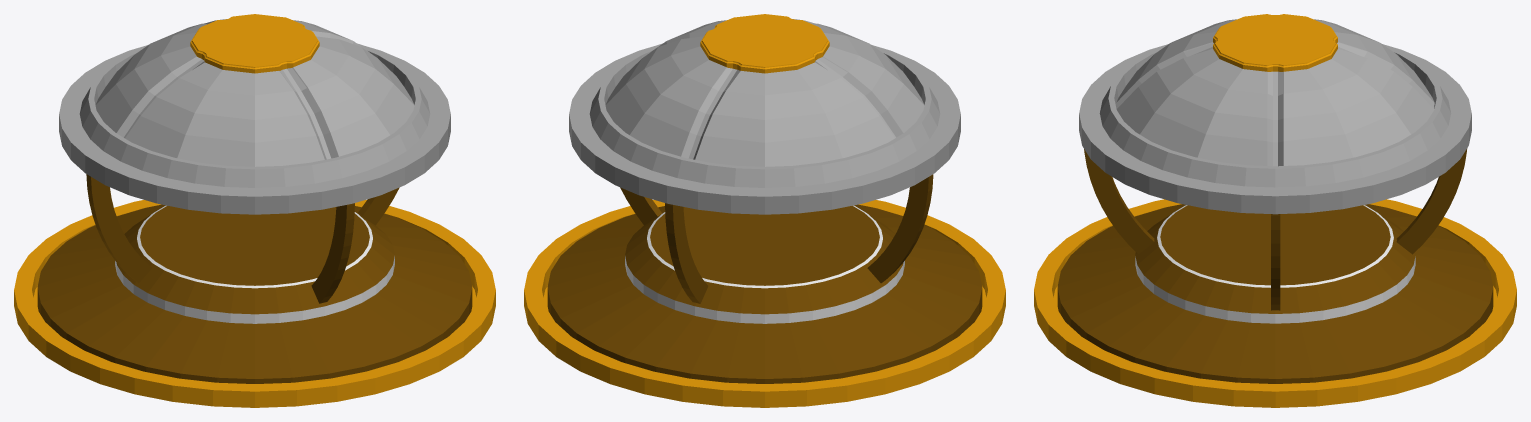
File: ornateTable_3.fbx
3 views of the same model, side by side, from view 1: azimuth 30°, elevation 25°; view 2: azimuth 150°, elevation 25°; view 3: azimuth 270°, elevation 25° (orthographic).
Visible parts, largest first — view 1: polySurface18, polySurface10, pCylinder5, polySurface19, polySurface16, pCube1, pCube4, pCube3; view 2: polySurface18, polySurface10, pCylinder5, polySurface19, polySurface16, pCube1, pCube2, pCube3; view 3: polySurface18, polySurface10, pCylinder5, polySurface19, polySurface16, pCube2, pCube4, pCube3.
Boxes of the visible parts, x1=… form: polySurface18: x1=37, y1=204, x2=472, y2=383; polySurface10: x1=95, y1=19, x2=414, y2=166; pCylinder5: x1=59, y1=43, x2=450, y2=214; polySurface19: x1=14, y1=200, x2=495, y2=407; polySurface16: x1=190, y1=14, x2=319, y2=73; pCube1: x1=86, y1=174, x2=151, y2=283; pCube4: x1=311, y1=203, x2=354, y2=303; pCube3: x1=357, y1=187, x2=399, y2=225; polySurface18: x1=547, y1=204, x2=982, y2=383; polySurface10: x1=605, y1=19, x2=924, y2=166; pCylinder5: x1=569, y1=43, x2=960, y2=214; polySurface19: x1=524, y1=200, x2=1005, y2=407; polySurface16: x1=700, y1=14, x2=829, y2=73; pCube1: x1=867, y1=174, x2=933, y2=283; pCube2: x1=665, y1=203, x2=708, y2=303; pCube3: x1=620, y1=187, x2=662, y2=225; polySurface18: x1=1057, y1=204, x2=1493, y2=383; polySurface10: x1=1116, y1=19, x2=1434, y2=166; pCylinder5: x1=1079, y1=44, x2=1471, y2=214; polySurface19: x1=1034, y1=199, x2=1516, y2=407; polySurface16: x1=1213, y1=14, x2=1337, y2=71; pCube2: x1=1396, y1=148, x2=1467, y2=254; pCube4: x1=1084, y1=149, x2=1154, y2=254; pCube3: x1=1271, y1=214, x2=1280, y2=310.
Bounding box in the file's own units: 4.88 × 2.97 × 4.88.
